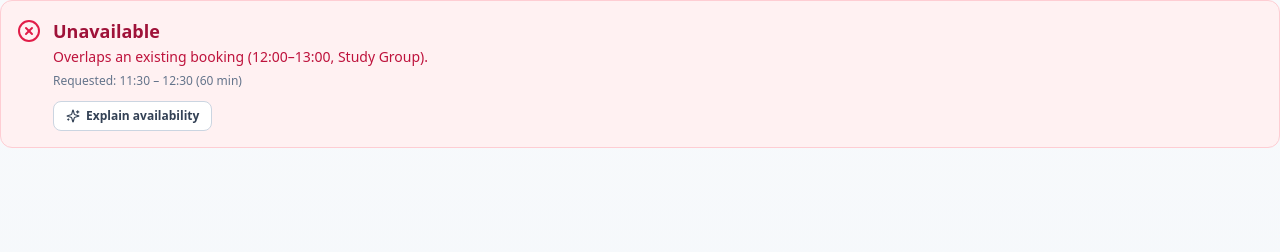
Test: availability explanation scenarios › keeps the confirmed status unchanged after showing an explanation
This screenshot has width=1280, height=252.
Expected: the text "Unavailable" is shown, x1=53 y1=19 x2=160 y2=43
What coordinates should you click on to do the following:
click the button "Explain availability"
I would click on:
 (133, 116)
Its box is x1=53 y1=101 x2=212 y2=131.
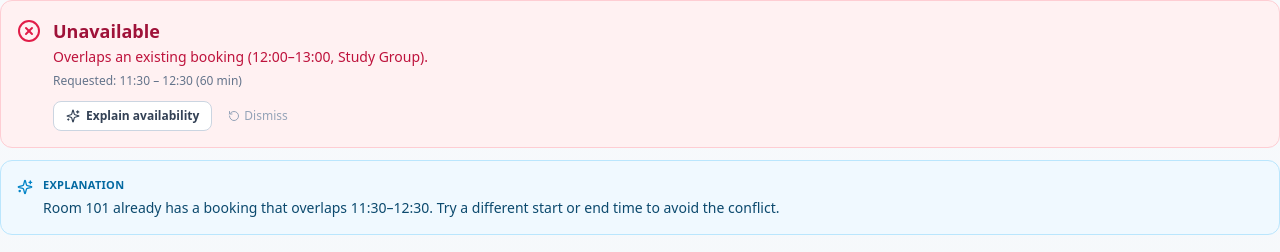
Expected: the text "Unavailable" is shown, x1=53 y1=19 x2=160 y2=43
Expected: the element named "Availability explanation" is shown, x1=0 y1=160 x2=1279 y2=234
Expected: the element named "Availability explanation" shows "overlaps", x1=43 y1=198 x2=780 y2=216
